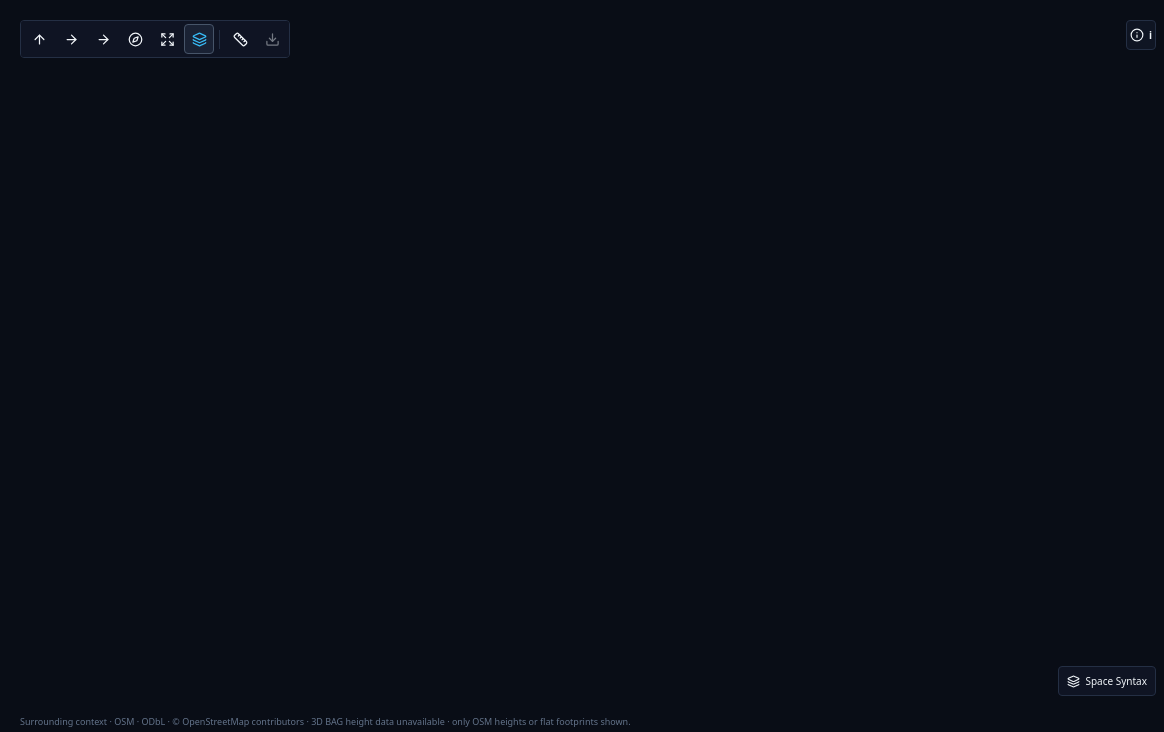
Test: Viewport3D measurements › keeps 3D controls in a compact toolbar and collapses information and legends by default
The width and height of the screenshot is (1164, 732).
Expected: the button named "Measure 3D distance and height" is shown, [225,24,255,54]
Expected: the button named "Export 3D figure (PNG)" is shown, [257,24,287,54]
Click the heading "i". click: (1141, 35)
box: [1130,28,1152,42]
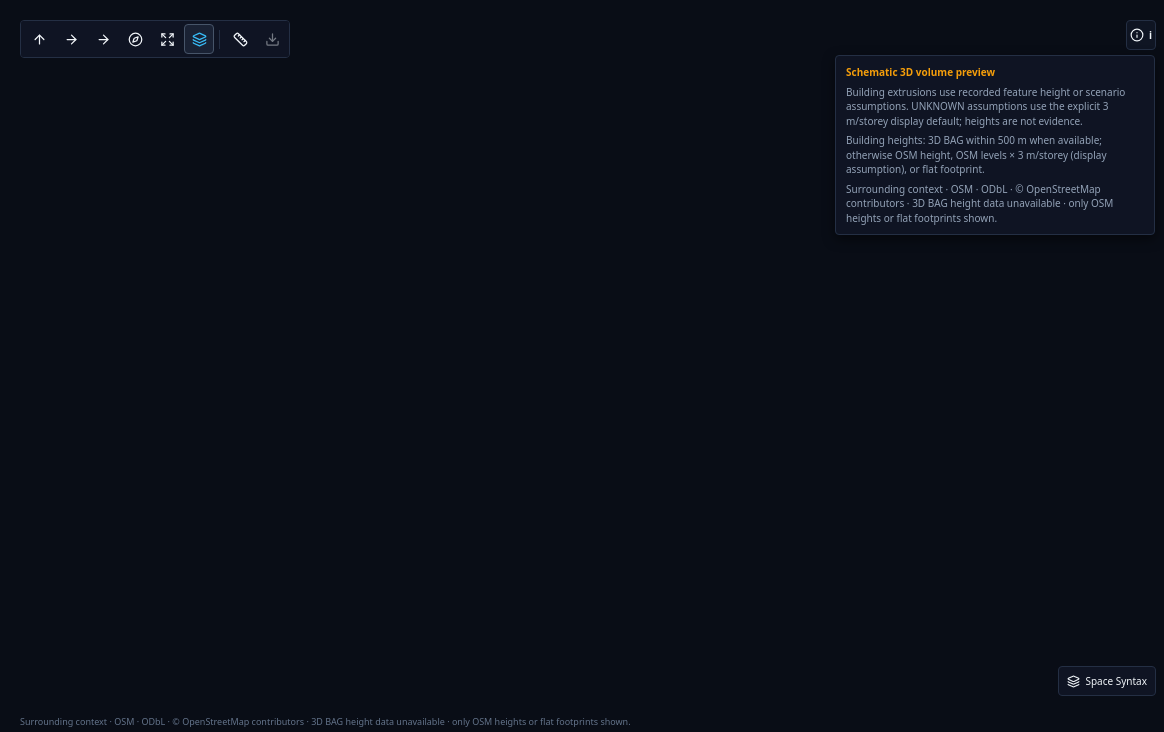
Expected: the text "Building extrusions use recorded feature height" is shown, [846,84,1125,128]
